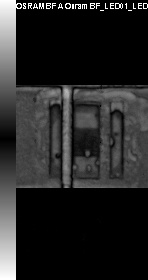led: (50, 106, 123, 178)
